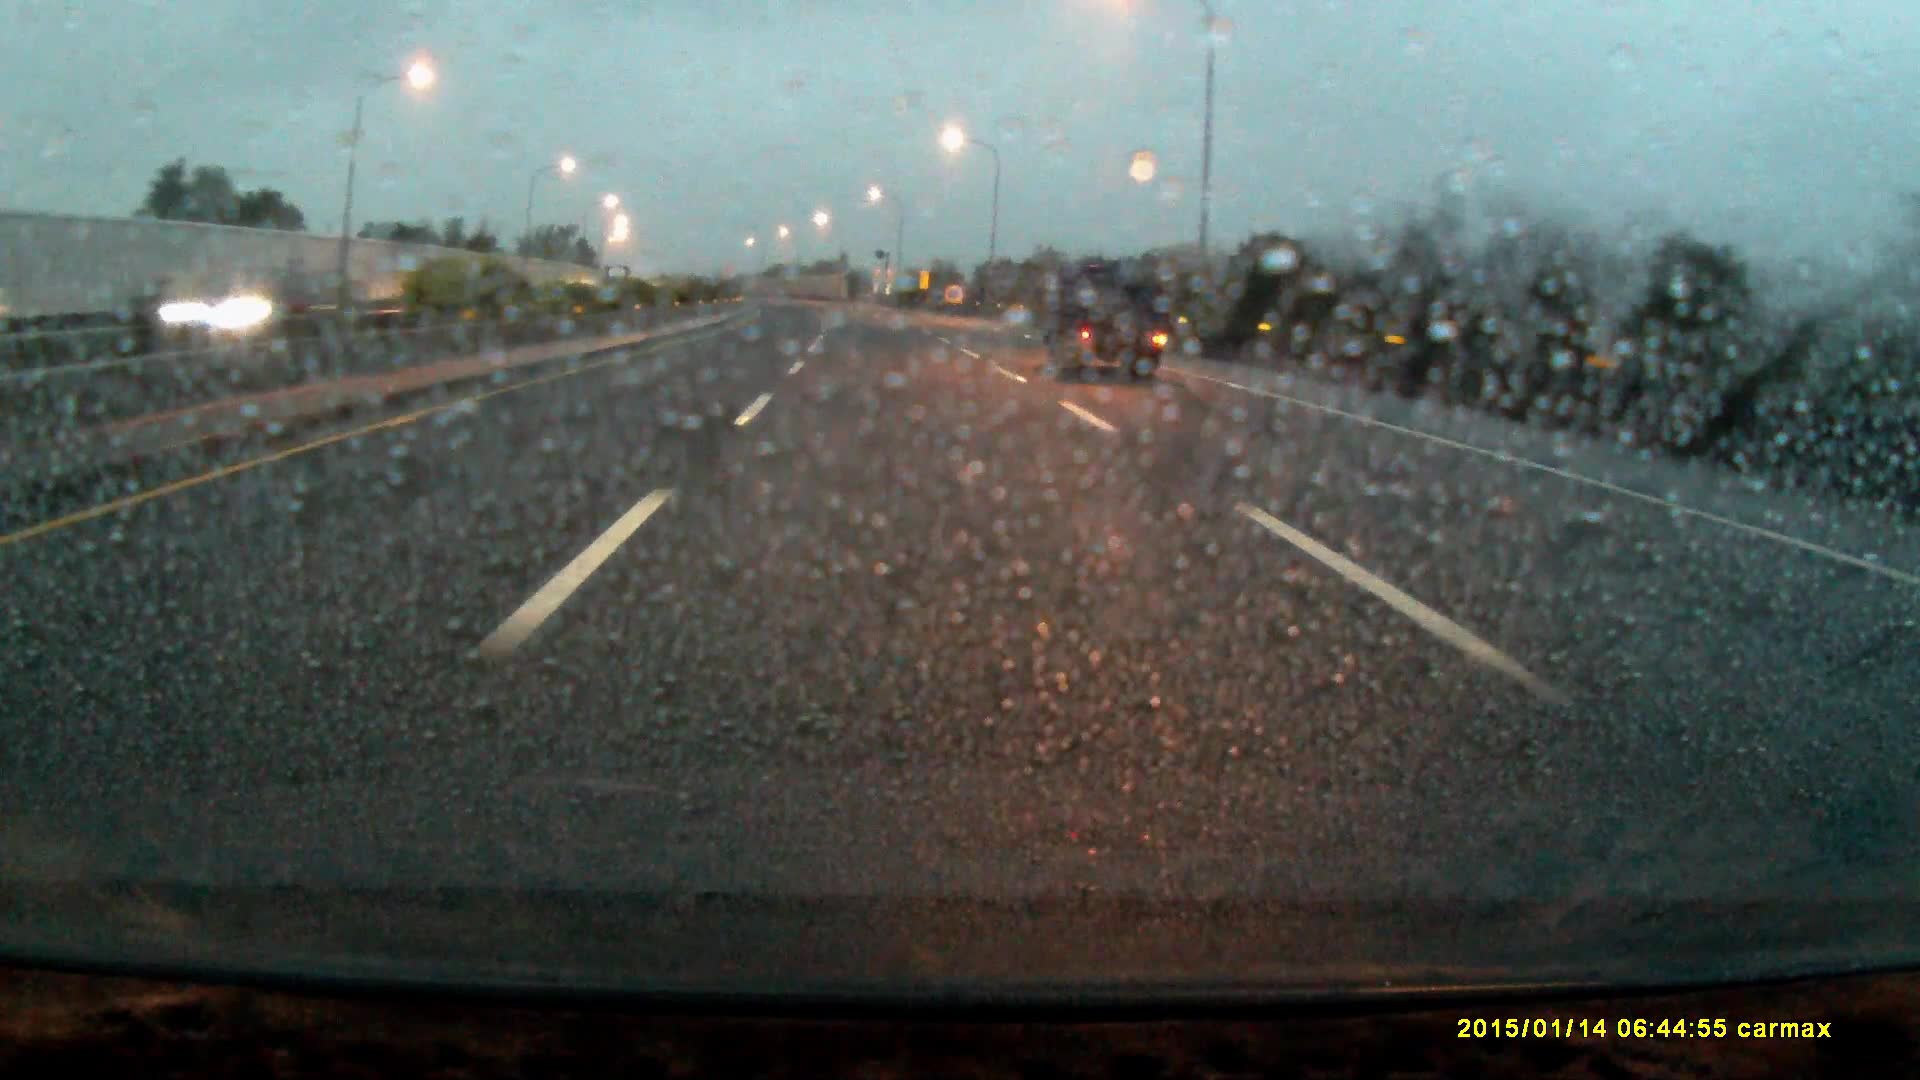vehicle: (1046, 265, 1167, 382), (156, 272, 314, 343), (607, 268, 632, 295)
